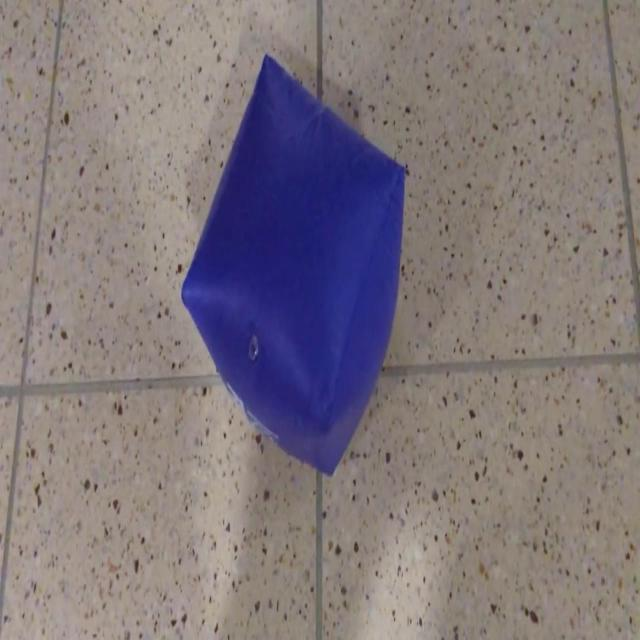frc_cube: (180, 52, 404, 476)
